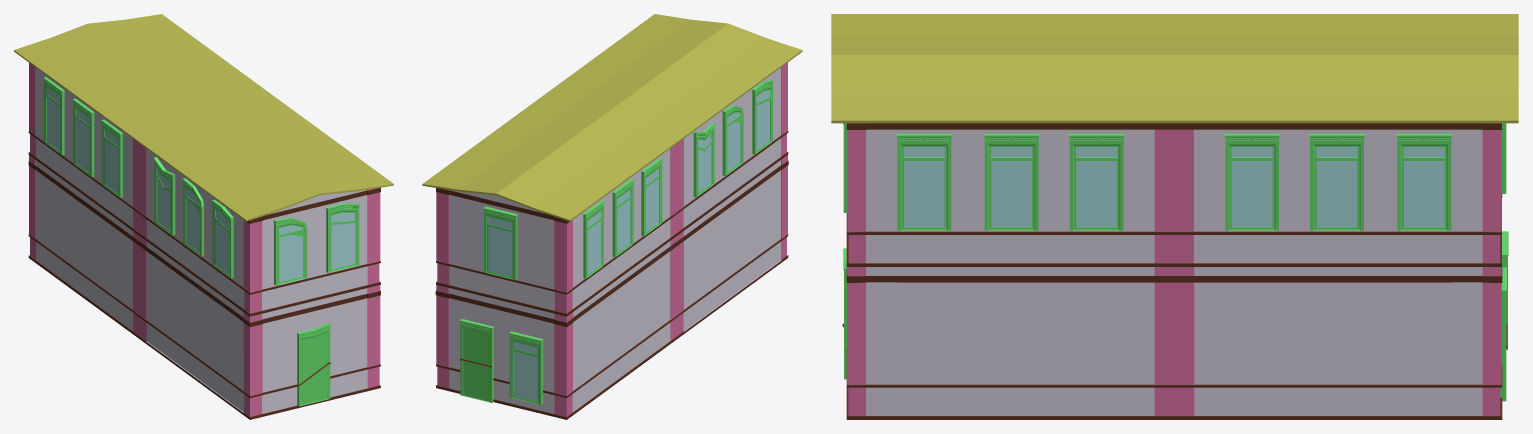
The model's file is House_structure_00_V1.fbx.
The picture shows the model from 3 angles, left to right: view 1: azimuth 30°, elevation 25°; view 2: azimuth 150°, elevation 25°; view 3: azimuth 270°, elevation 25°; orthographic projection. The views are drawn at different scales.
Parts seen in each view (by area): view 1: House_structure_00.021; view 2: House_structure_00.021; view 3: House_structure_00.021.
Part boxes in pixels (<box>): House_structure_00.021: <box>14,14,393,419</box>; House_structure_00.021: <box>422,14,802,419</box>; House_structure_00.021: <box>831,14,1518,419</box>.
Bounding box in the file's own units: 450 × 624 × 1224.
